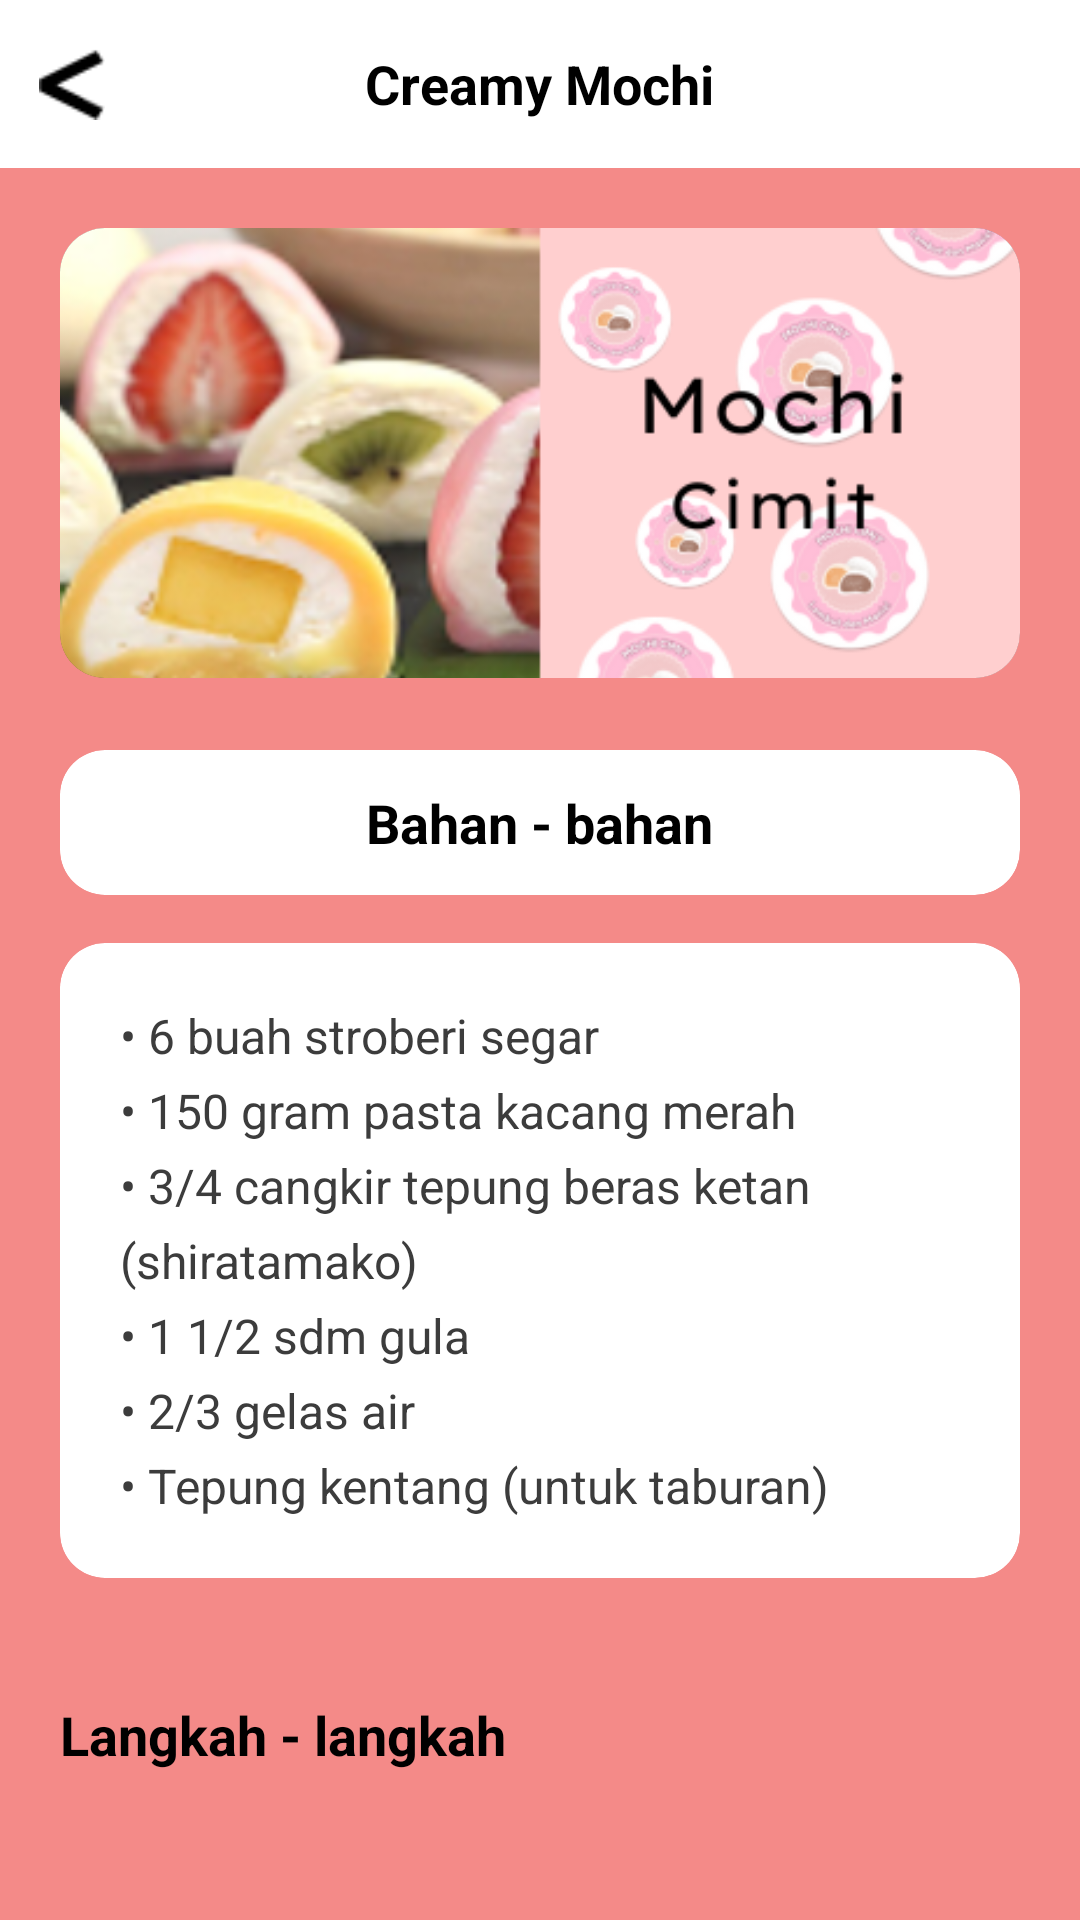

Screen size 1080x1920. Icon name, then its center in pixels as point (x, y):
Kembali: point (71, 85)
